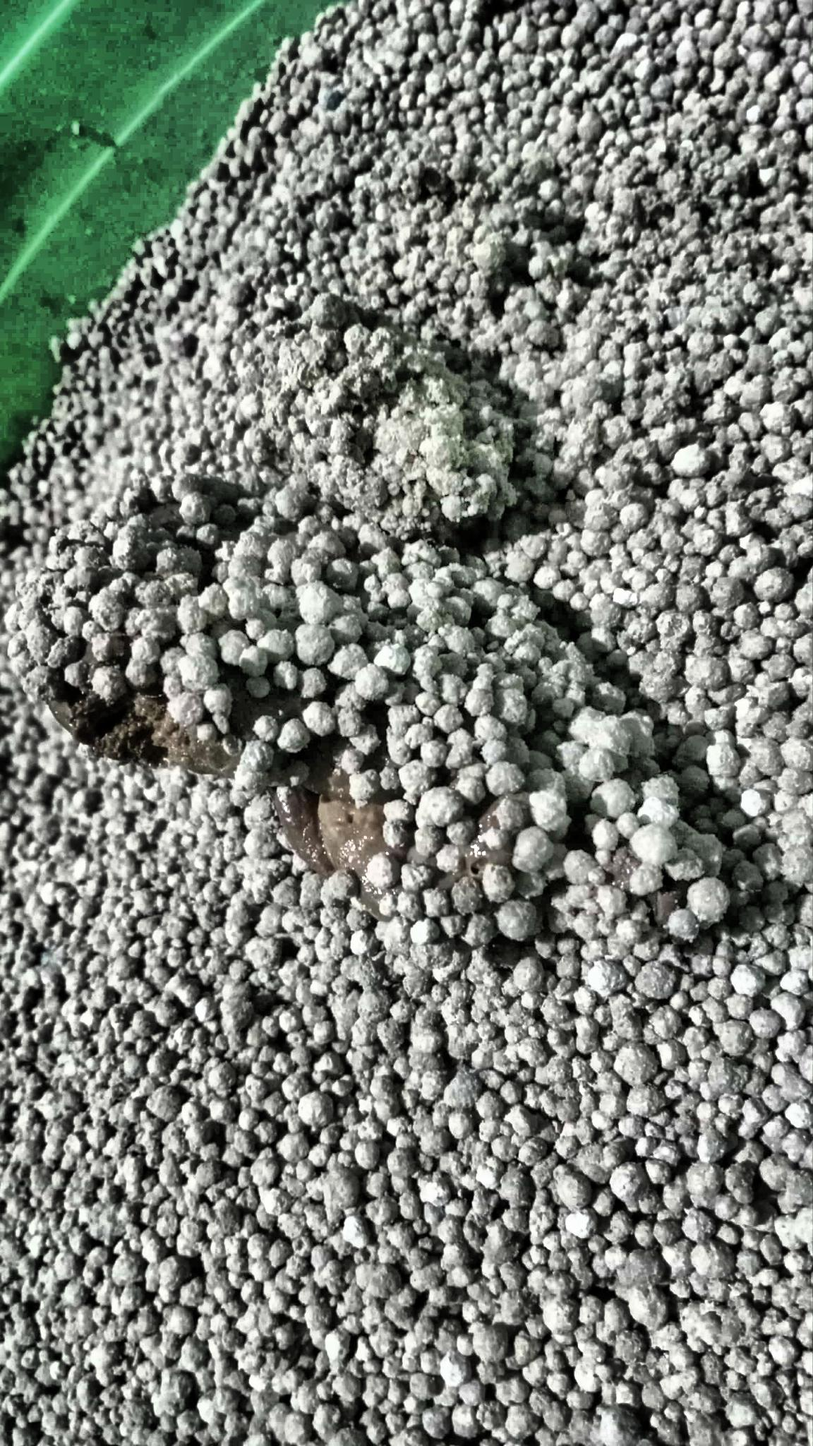poop: (18, 489, 735, 929)
